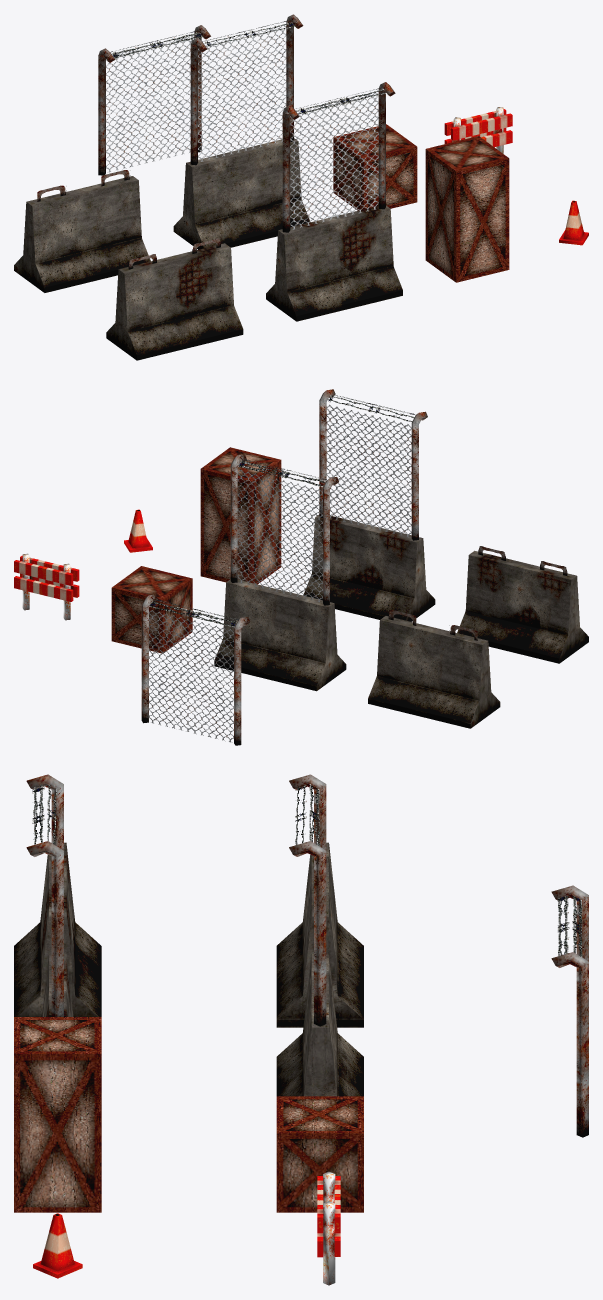
The model's file is BarriersRetro.fbx.
The picture shows the model from 3 angles, top to bottom: view 1: azimuth 30°, elevation 25°; view 2: azimuth 150°, elevation 25°; view 3: azimuth 270°, elevation 25°; orthographic projection. The views are drawn at different scales.
Visible parts, largest first — view 1: ConcreteBarrierWithFenceDemaged, ConcreteBarrierWithFence, ConcreteBarrierDemaged, ConcreteBarrier, BigWoodenBox, ConcreteBarrierWithFence.001, WoodenBox, Barrier, Cone; view 2: ConcreteBarrierWithFence, ConcreteBarrierWithFenceDemaged, ConcreteBarrier, ConcreteBarrierDemaged, BigWoodenBox, ConcreteBarrierWithFence.001, WoodenBox, Barrier, Cone; view 3: BigWoodenBox, ConcreteBarrierWithFence, WoodenBox, ConcreteBarrier, ConcreteBarrierDemaged, ConcreteBarrierWithFenceDemaged, ConcreteBarrierWithFence.001, Barrier, Cone.
Part boxes in pixels (x1,y1,x2,y2): ConcreteBarrierWithFenceDemaged: (266, 82, 402, 321); ConcreteBarrierWithFence: (173, 14, 310, 249); ConcreteBarrierDemaged: (106, 238, 243, 360); ConcreteBarrier: (14, 170, 150, 292); BigWoodenBox: (425, 136, 509, 282); ConcreteBarrierWithFence.001: (98, 25, 210, 175); WoodenBox: (333, 124, 417, 210); Barrier: (444, 107, 512, 153); Cone: (559, 200, 588, 245); ConcreteBarrierWithFence: (214, 454, 346, 691); ConcreteBarrierWithFenceDemaged: (303, 389, 435, 621); ConcreteBarrier: (368, 610, 500, 728); ConcreteBarrierDemaged: (457, 546, 588, 663); BigWoodenBox: (200, 447, 281, 584); ConcreteBarrierWithFence.001: (141, 594, 250, 745); WoodenBox: (111, 566, 192, 653); Barrier: (14, 553, 79, 620); Cone: (124, 509, 152, 552); BigWoodenBox: (14, 1017, 101, 1212); ConcreteBarrierWithFence: (276, 774, 363, 1096); WoodenBox: (276, 1096, 363, 1212); ConcreteBarrier: (276, 842, 363, 1027); ConcreteBarrierDemaged: (14, 842, 101, 1016); ConcreteBarrierWithFenceDemaged: (26, 774, 73, 1016); ConcreteBarrierWithFence.001: (551, 885, 588, 1137); Barrier: (317, 1171, 340, 1285); Cone: (33, 1213, 82, 1278).
Bounding box in the file's own units: 906 × 371 × 657.
